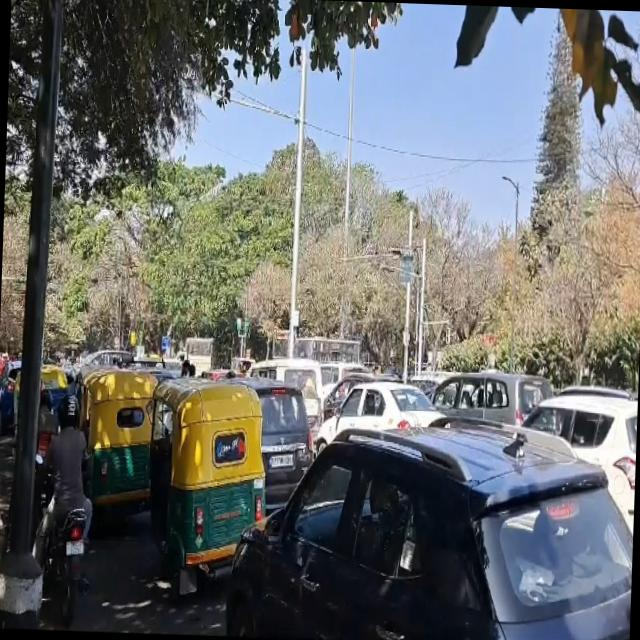cars: (226, 420, 637, 640), (525, 389, 639, 524), (243, 380, 318, 520), (320, 380, 448, 454), (437, 371, 551, 428)
